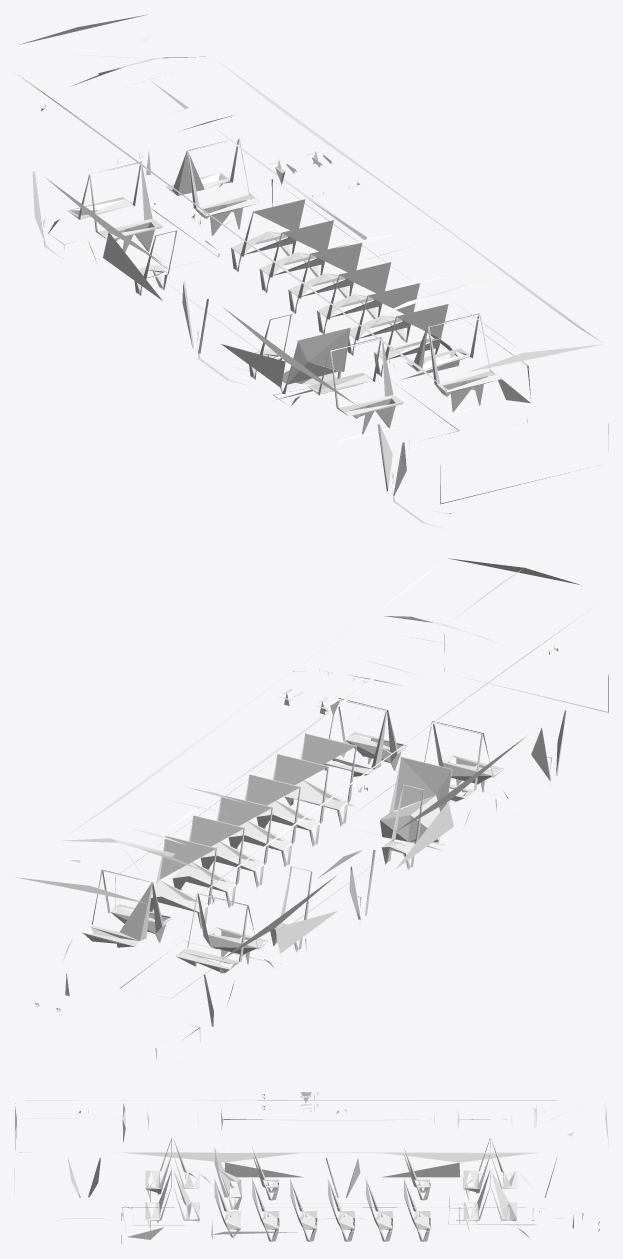
3 views of the same model, one above another, from view 1: azimuth 30°, elevation 25°; view 2: azimuth 150°, elevation 25°; view 3: azimuth 270°, elevation 25° (orthographic). The views are drawn at different scales.
Bounding box in the file's own units: 2.43 × 2.82 × 10.7.
1 material, 1 textured.
